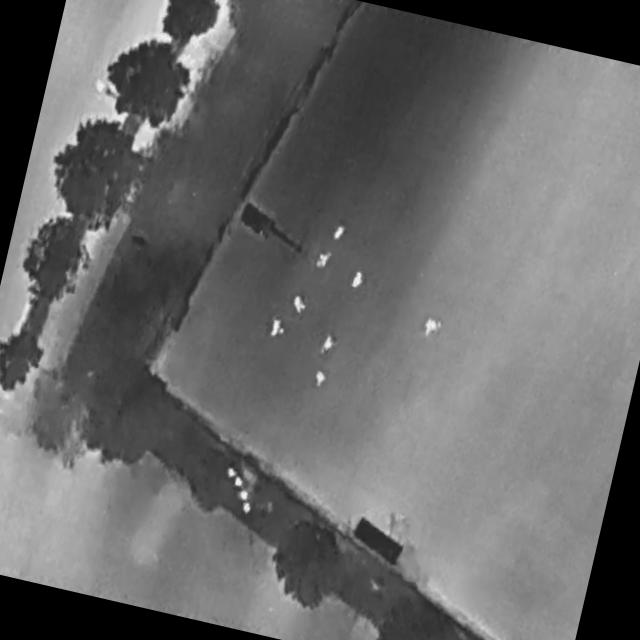person: (310, 243, 337, 276), (288, 291, 313, 321), (319, 330, 339, 359), (422, 315, 445, 340), (330, 220, 349, 245), (268, 317, 287, 341), (350, 267, 367, 290), (314, 369, 329, 387)
